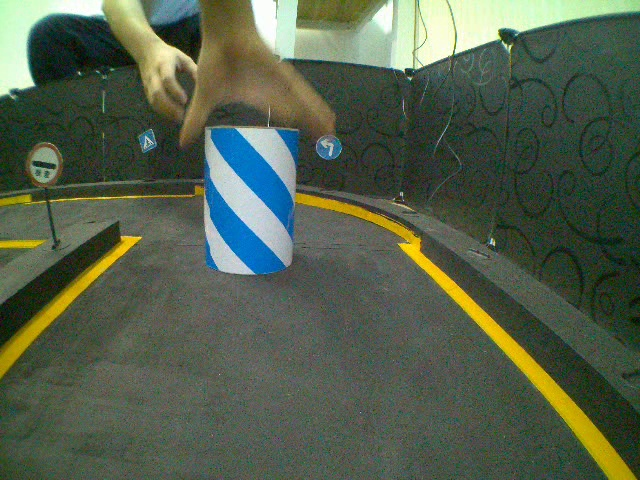bucket: (202, 122, 295, 276)
